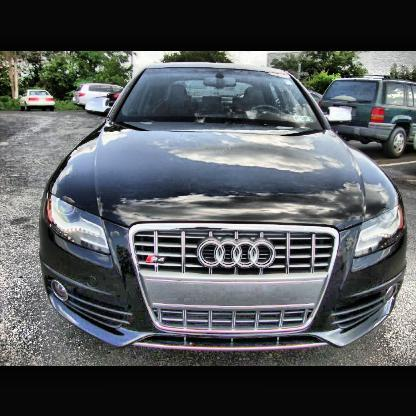Audi S4 Sedan 2012: (41, 65, 408, 360)
